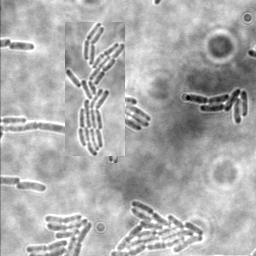Dividing: (1, 123, 64, 142), (108, 131, 118, 163), (8, 41, 35, 52)
Microcolony: (65, 22, 125, 156), (109, 200, 205, 255), (25, 212, 94, 255), (184, 89, 248, 126), (125, 96, 150, 132), (16, 182, 48, 193)
